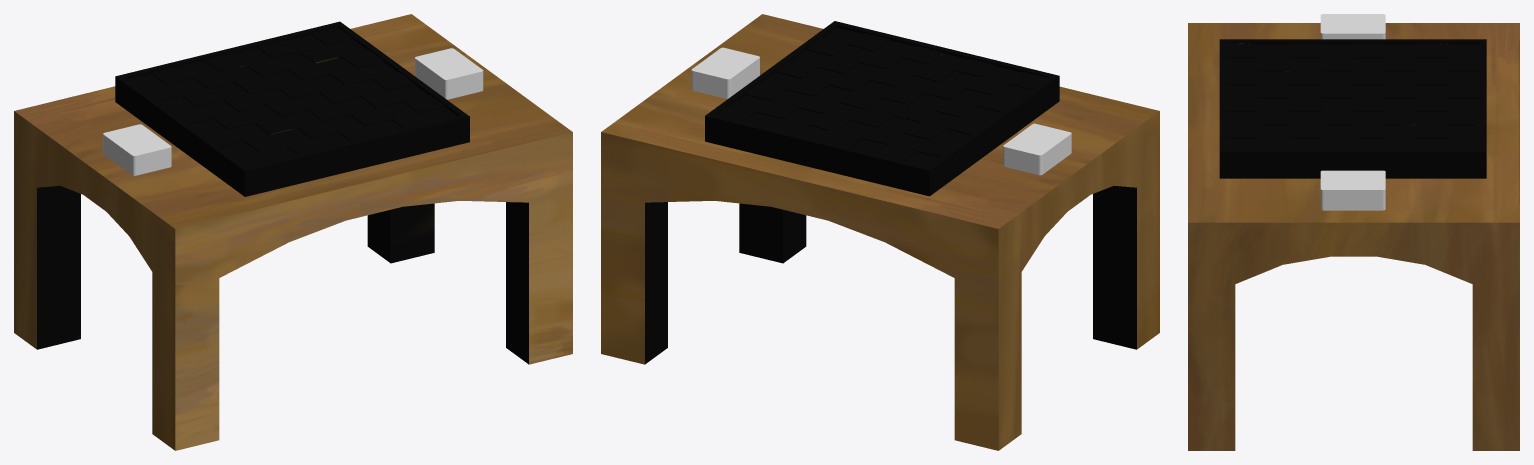
The model's file is chess4_5.gltf.
3 views of the same model, side by side, from view 1: azimuth 30°, elevation 25°; view 2: azimuth 150°, elevation 25°; view 3: azimuth 270°, elevation 25° (orthographic). The views are drawn at different scales.
Visible parts, largest first — view 1: Table, Checker Board, Card pull deck, discard pile; view 2: Table, Checker Board, Card pull deck, discard pile; view 3: Table, Checker Board, discard pile, Card pull deck.
Part boxes in pixels (x1,y1,x2,y2): Table: (14,14,572,450); Checker Board: (115,21,469,196); Card pull deck: (103,124,171,175); discard pile: (415,48,483,99); Table: (601,14,1159,450); Checker Board: (705,21,1059,196); Card pull deck: (1003,123,1071,175); discard pile: (691,47,759,98); Table: (1188,23,1519,450); Checker Board: (1219,39,1486,178); discard pile: (1320,170,1385,210); Card pull deck: (1320,14,1385,39).
Size of the model in its own units: 3.54 by 2.11 by 2.49.
2 materials, 2 textured.
